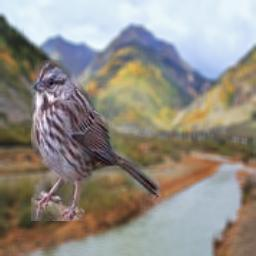Sparrow: (31, 60, 161, 221)
